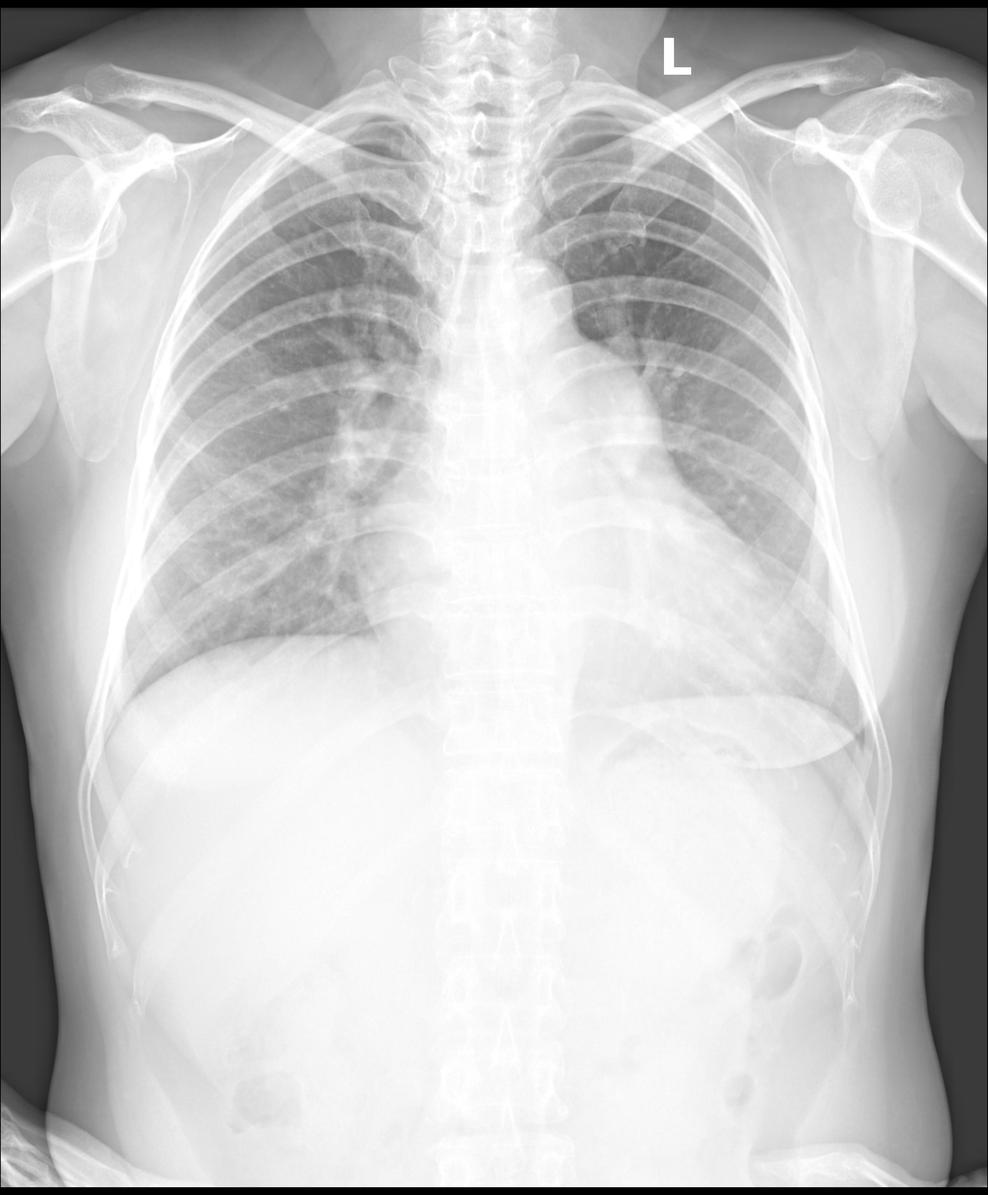Cardiomegaly: (347, 499, 805, 691)
